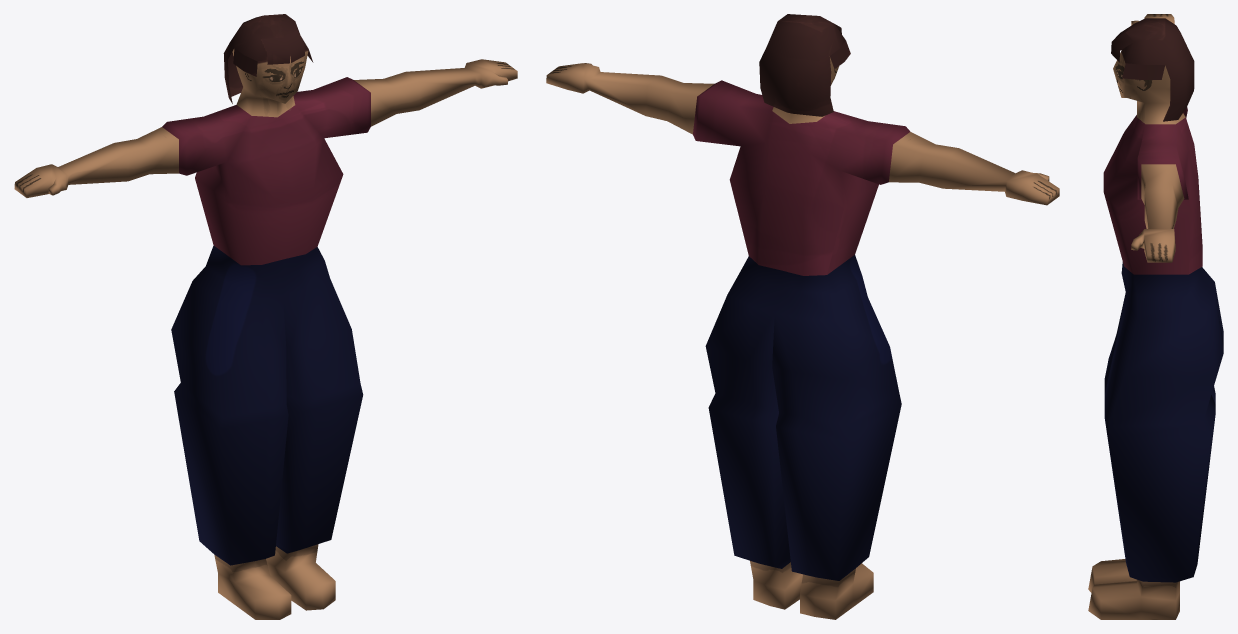
The model's file is Mama Tpose.fbx.
3 views of the same model, side by side, from view 1: azimuth 30°, elevation 25°; view 2: azimuth 150°, elevation 25°; view 3: azimuth 270°, elevation 25° (orthographic). The views are drawn at different scales.
Visible parts, largest first — view 1: Cube; view 2: Cube; view 3: Cube.
Part boxes in pixels (x1,y1,x2,y2): Cube: (14,14,517,619); Cube: (546,14,1059,619); Cube: (1088,14,1223,619).
Size of the model in its own units: 168 by 187 by 39.94.
